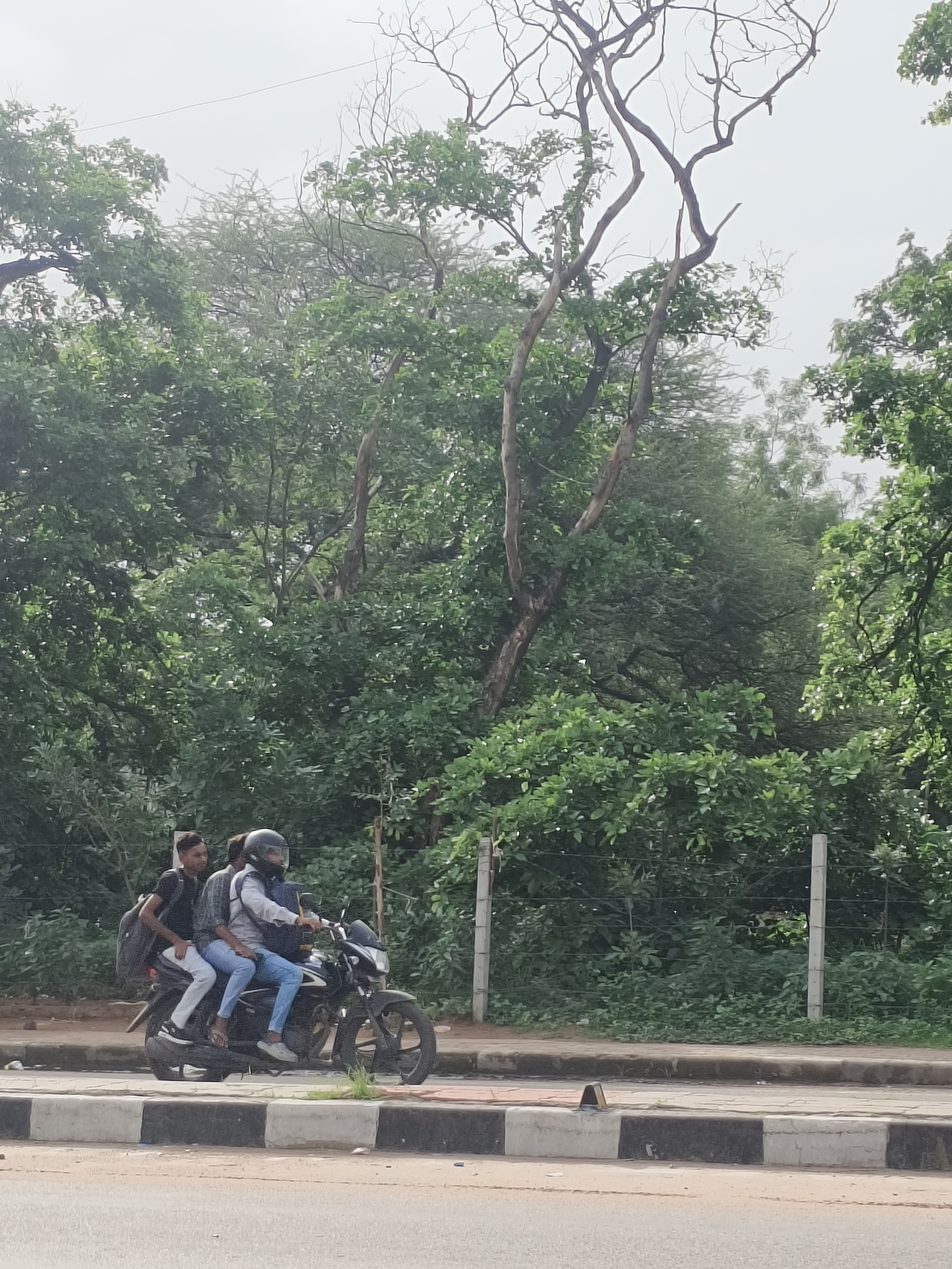BikeWithRider: (94, 816, 459, 1101)
Helmet: (238, 822, 296, 884)
NoHelmet: (167, 827, 216, 879), (222, 826, 265, 877)
